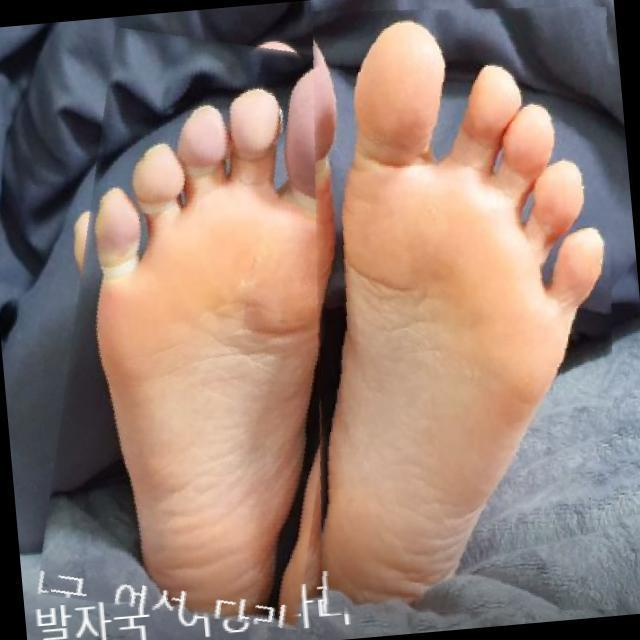No_Shoes: (346, 16, 603, 626), (78, 71, 330, 572)
